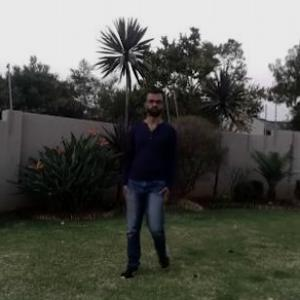follow: (124, 93, 173, 258)
